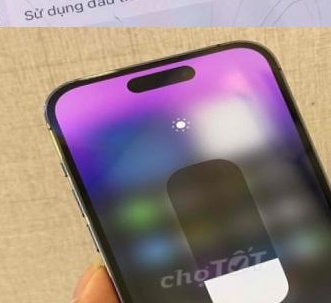screen_defect: (20, 0, 164, 27), (195, 0, 331, 27)
